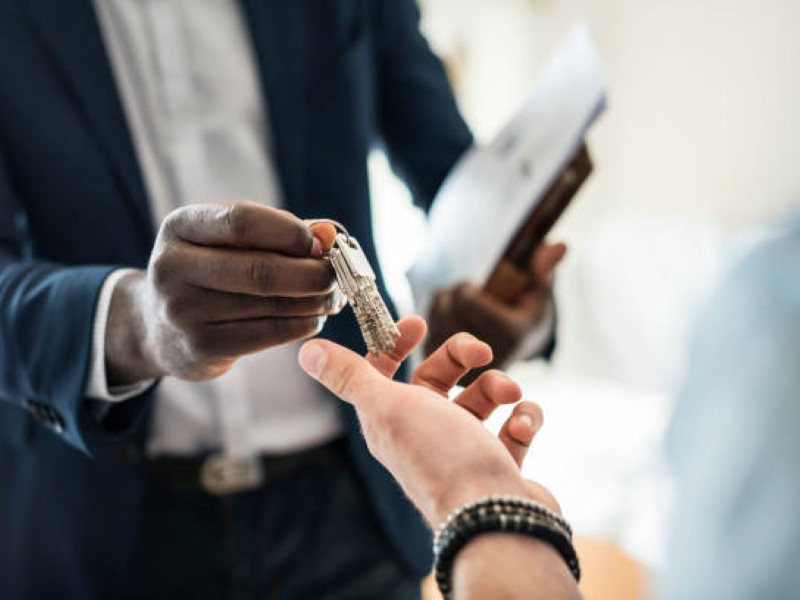key: (311, 221, 408, 359)
